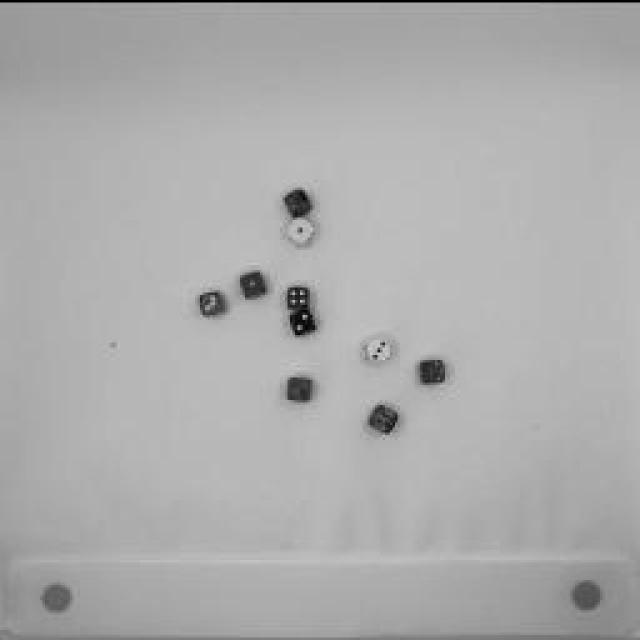dice_1: (234, 268, 271, 302), (282, 214, 318, 246), (280, 185, 315, 217)
dice_2: (195, 288, 230, 322), (288, 306, 322, 339), (284, 373, 316, 405)
dice_3: (358, 328, 394, 368)
dice_4: (366, 400, 404, 435), (282, 285, 312, 310)
dice_6: (415, 355, 453, 390)
